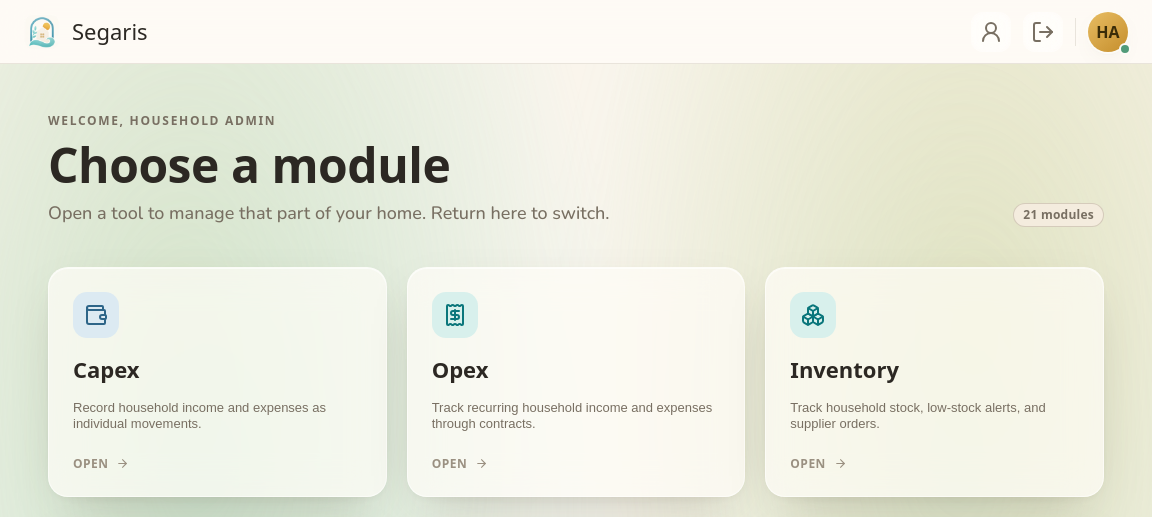
Test: application routing and session › keeps the session active and reports a failed sign out
Click the button named "Sign out". click: (1043, 32)
box: [1023,12,1063,52]
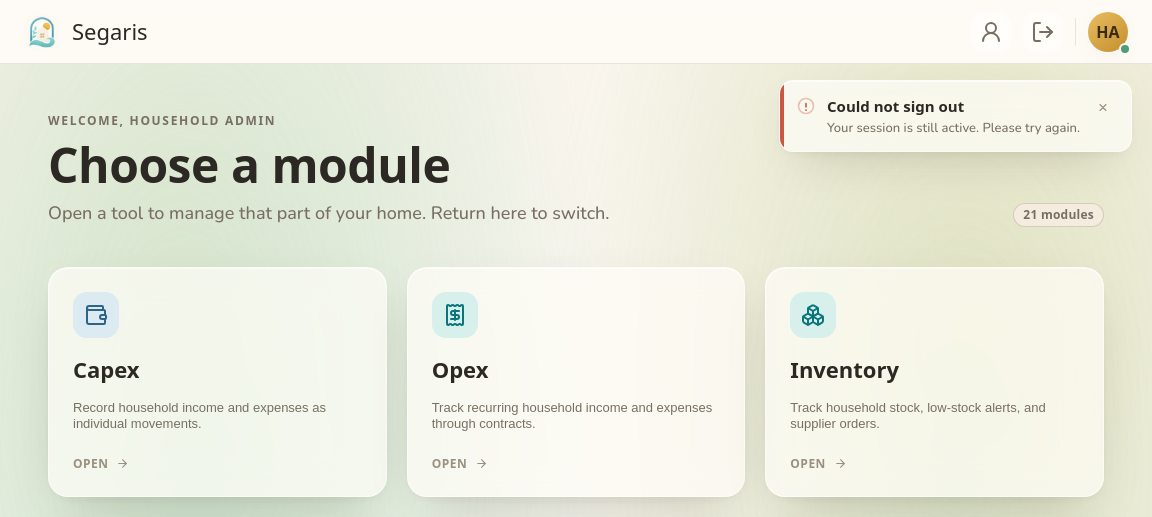
Expected: the heading "Choose a module" is shown, [48,132,450,197]
Expected: the message shows "Could not sign out", [827,96,964,116]
